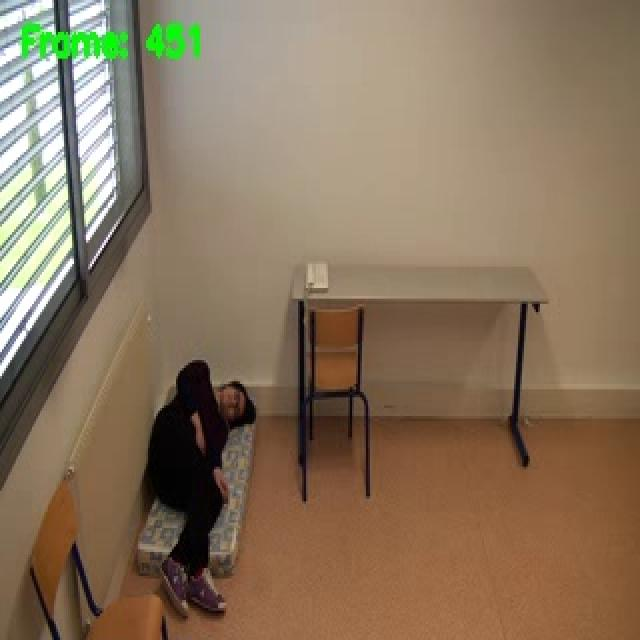Fall: (141, 353, 283, 635)
